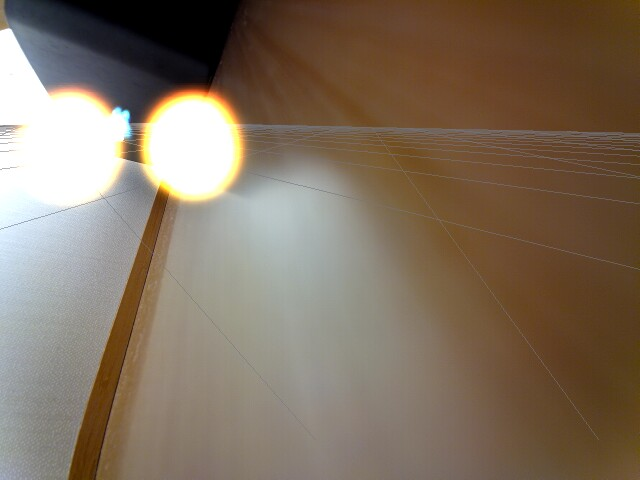fire: (15, 84, 128, 211), (136, 87, 249, 203)
